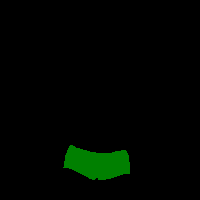mutande: (63, 144, 130, 180)
